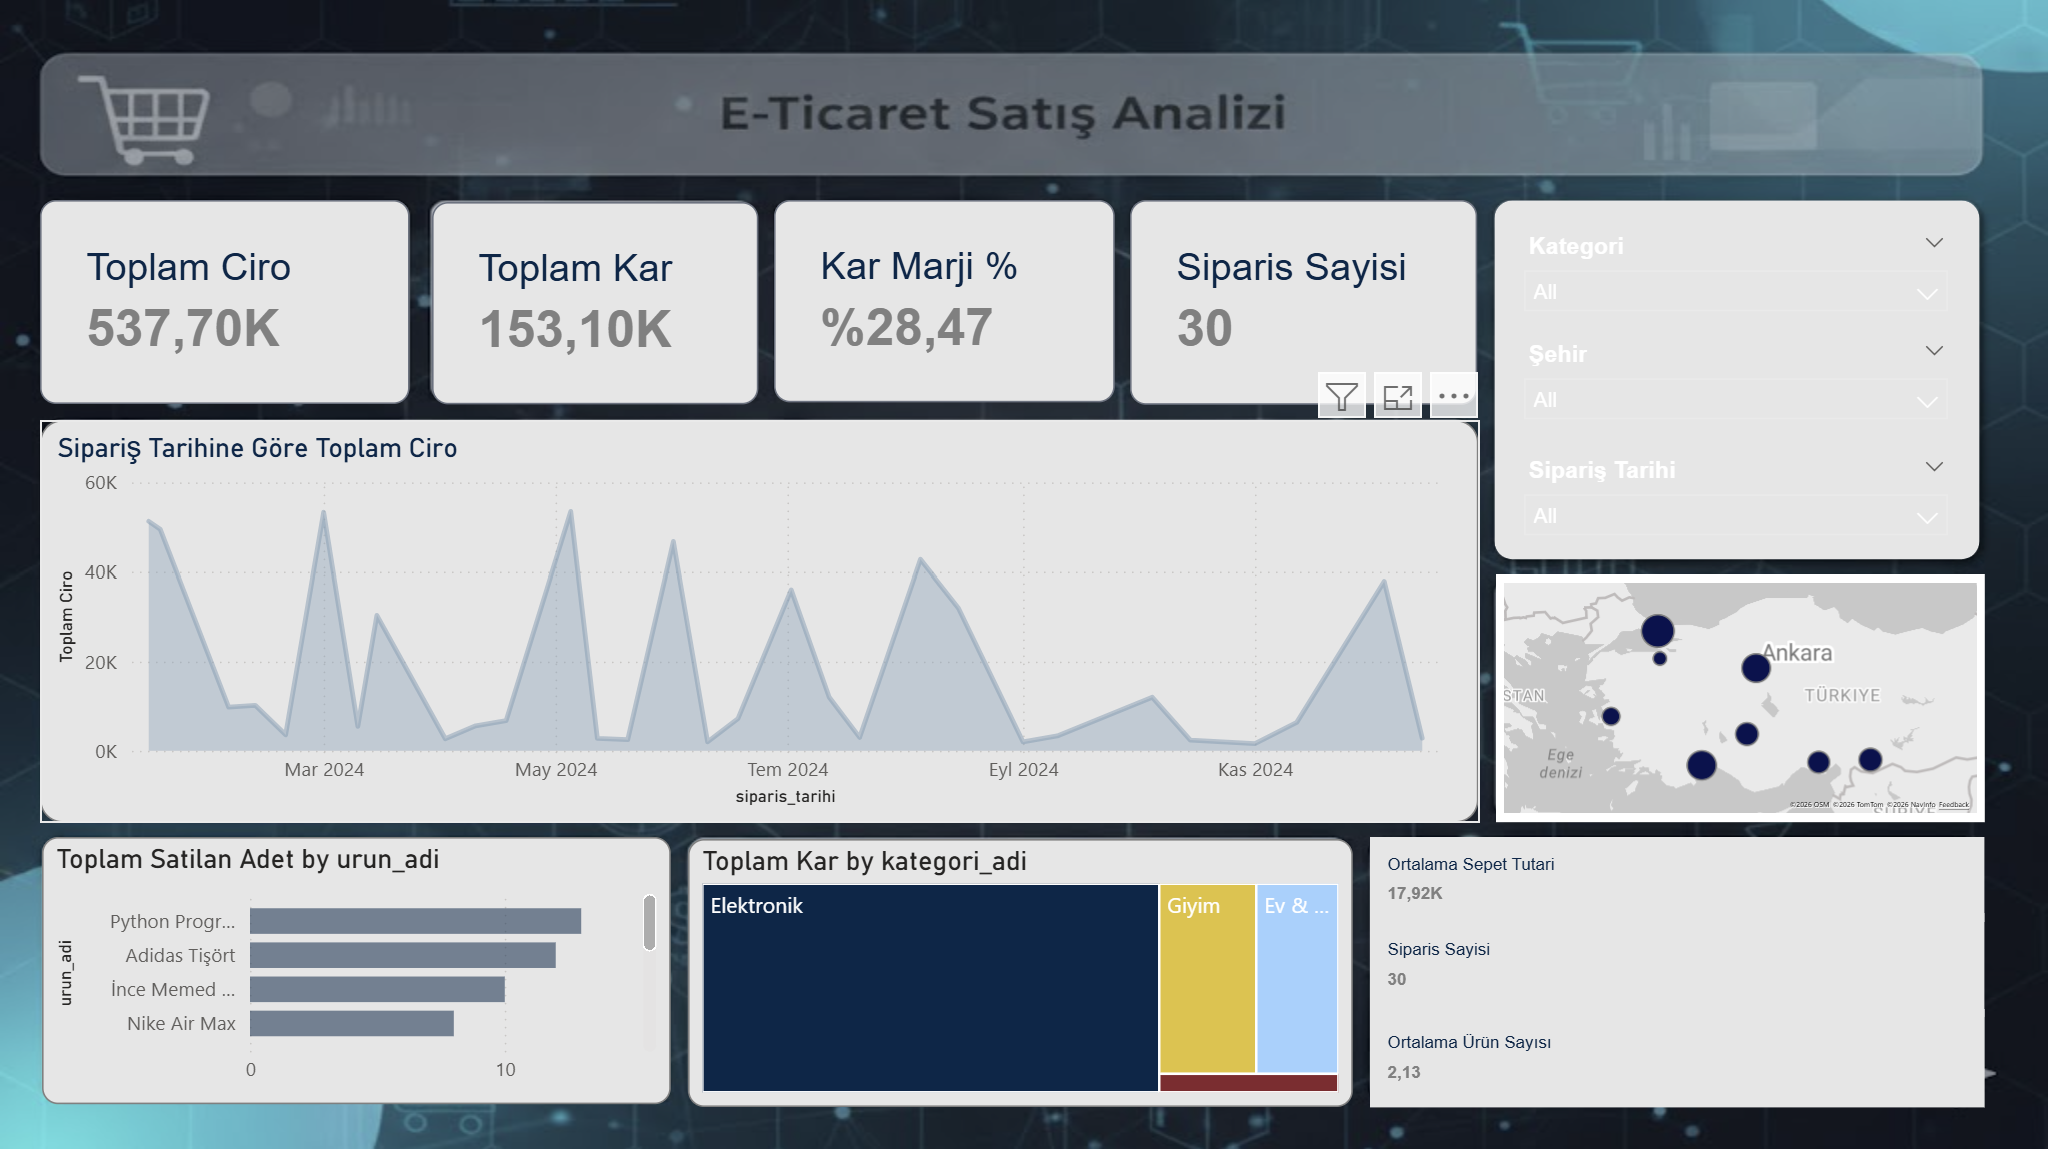

The dashboard page shown, as its layout file describes it:
{"tool":"powerbi","page":{"name":"Page 1","canvas":[1280,720],"ordinal":0},"visuals":[{"type":"cardVisual","fields":{"Data":["Ölçüler.Toplam Ciro"]},"box":[25.3,125.9,231.2,127.6],"z":0},{"type":"cardVisual","fields":{"Data":["Ölçüler.Toplam Kar"]},"box":[269.4,127.2,203.9,126.7],"z":1000},{"type":"cardVisual","fields":{"Data":["Ölçüler.Kar Marji %"]},"box":[483.9,126.1,212.8,126.7],"z":2000},{"type":"cardVisual","fields":{"Data":["Ölçüler.Siparis Sayisi"]},"box":[706.7,126.1,217.2,127.8],"z":3000},{"type":"shape","box":[925.6,117.8,321.1,242.2],"z":4000},{"type":"slicer","fields":{"Values":["public kategoriler.kategori_adi"]},"box":[942,141,285,62],"z":5000},{"type":"slicer","fields":{"Values":["public satis_ozeti.sehir"]},"box":[943,209,285,60],"z":6000},{"type":"slicer","fields":{"Values":["public siparisler.siparis_tarihi"]},"box":[942,281,285,60],"z":7000},{"type":"areaChart","title":"Sipariş Tarihine Göre Toplam Ciro","fields":{"Y":["Ölçüler.Toplam Ciro"],"Category":["public siparisler.siparis_tarihi"]},"box":[25.6,263.3,898.9,251.1],"z":8000},{"type":"clusteredBarChart","fields":{"Y":["Ölçüler.Toplam Satilan Adet"],"Category":["public urunler.urun_adi"]},"box":[25.7,524.3,392.9,167.1],"z":9000},{"type":"treemap","fields":{"Group":["public kategoriler.kategori_adi"],"Values":["Ölçüler.Toplam Kar"]},"box":[430,524.5,415.5,167.3],"z":10000},{"type":"cardVisual","fields":{"Data":["Ölçüler.Ortalama Sepet Tutari"]},"box":[855.8,524.2,384.2,53.3],"z":11000},{"type":"cardVisual","fields":{"Data":["Ölçüler.Siparis Sayisi"]},"box":[855.8,571.7,384.2,65.8],"z":12000},{"type":"cardVisual","fields":{"Data":["Ölçüler.Ortalama Ürün Sayısı"]},"box":[855.8,630.8,384.2,61.7],"z":13000},{"type":"azureMap","fields":{"Category":["public musteriler.sehir"],"Size":["Ölçüler.Toplam Ciro"]},"box":[934.4,360,305.6,154.4],"z":14000}]}

Visuals, with their boxes in screenshot pixels (x1, y1, x2, y2), scaled from the page's 1280x720 canvas onto the 2048x1150 screenshot:
cardVisual - Ölçüler.Toplam Ciro: 40/201/410/405
cardVisual - Ölçüler.Toplam Kar: 431/203/757/406
cardVisual - Ölçüler.Kar Marji %: 774/201/1115/404
cardVisual - Ölçüler.Siparis Sayisi: 1131/201/1478/406
shape: 1481/188/1995/575
slicer - public kategoriler.kategori_adi: 1507/225/1963/324
slicer - public satis_ozeti.sehir: 1509/334/1965/430
slicer - public siparisler.siparis_tarihi: 1507/449/1963/545
"Sipariş Tarihine Göre Toplam Ciro" areaChart: 41/421/1479/822
clusteredBarChart - Ölçüler.Toplam Satilan Adet x public urunler.urun_adi: 41/837/670/1104
treemap - public kategoriler.kategori_adi x Ölçüler.Toplam Kar: 688/838/1353/1105
cardVisual - Ölçüler.Ortalama Sepet Tutari: 1369/837/1984/922
cardVisual - Ölçüler.Siparis Sayisi: 1369/913/1984/1018
cardVisual - Ölçüler.Ortalama Ürün Sayısı: 1369/1008/1984/1106
azureMap - public musteriler.sehir x Ölçüler.Toplam Ciro: 1495/575/1984/822
